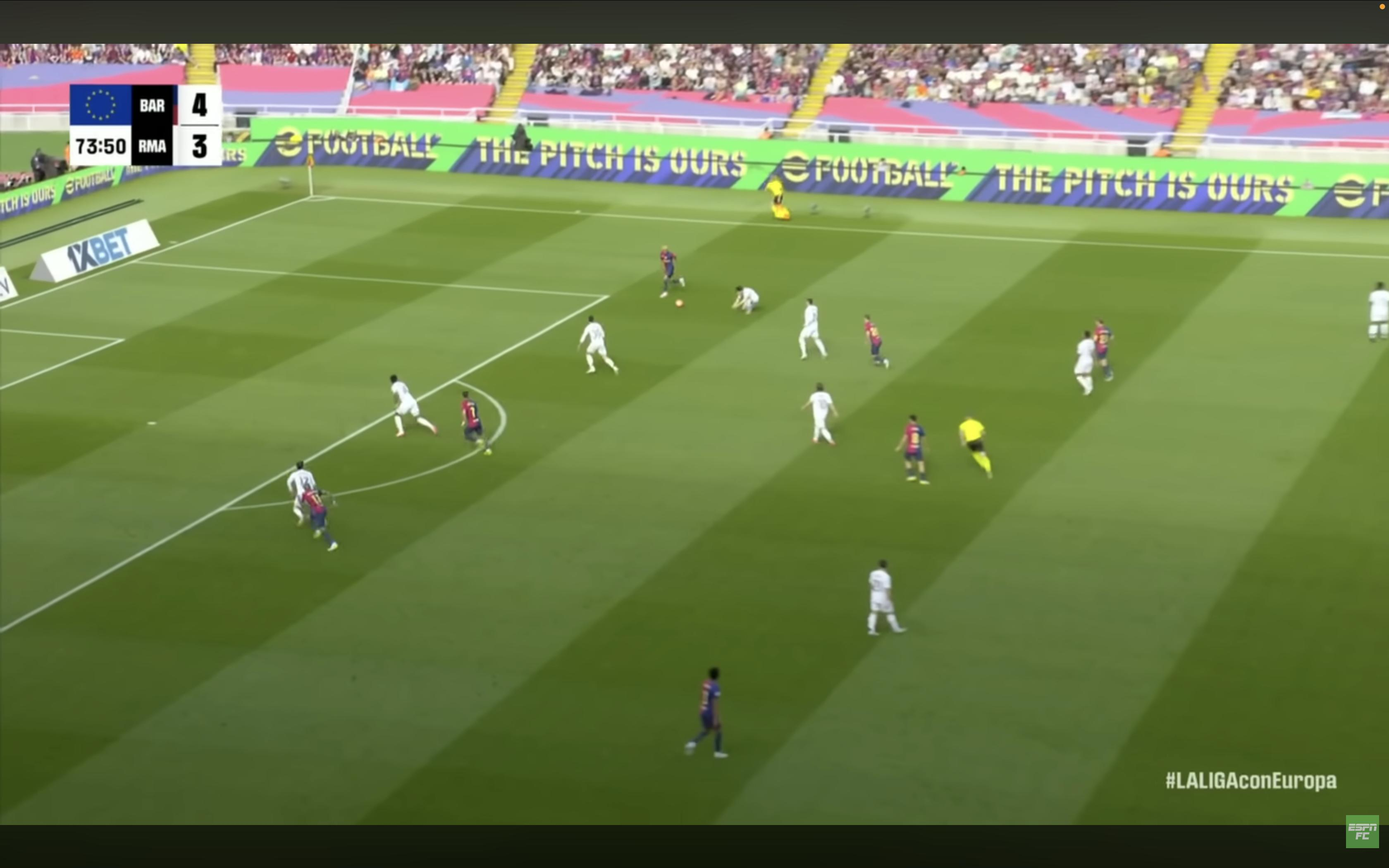ball: (674, 299, 684, 308)
player: (685, 668, 727, 758), (390, 374, 438, 436), (868, 560, 905, 636), (579, 316, 618, 374), (802, 384, 838, 445), (897, 415, 928, 484), (303, 490, 338, 551), (286, 460, 317, 526), (461, 391, 491, 455), (798, 299, 827, 360), (1074, 331, 1096, 396), (865, 315, 890, 368), (660, 246, 685, 297), (1369, 282, 1389, 342), (1094, 319, 1113, 381), (732, 286, 759, 314)
referee: (959, 417, 991, 479), (766, 174, 790, 219)
